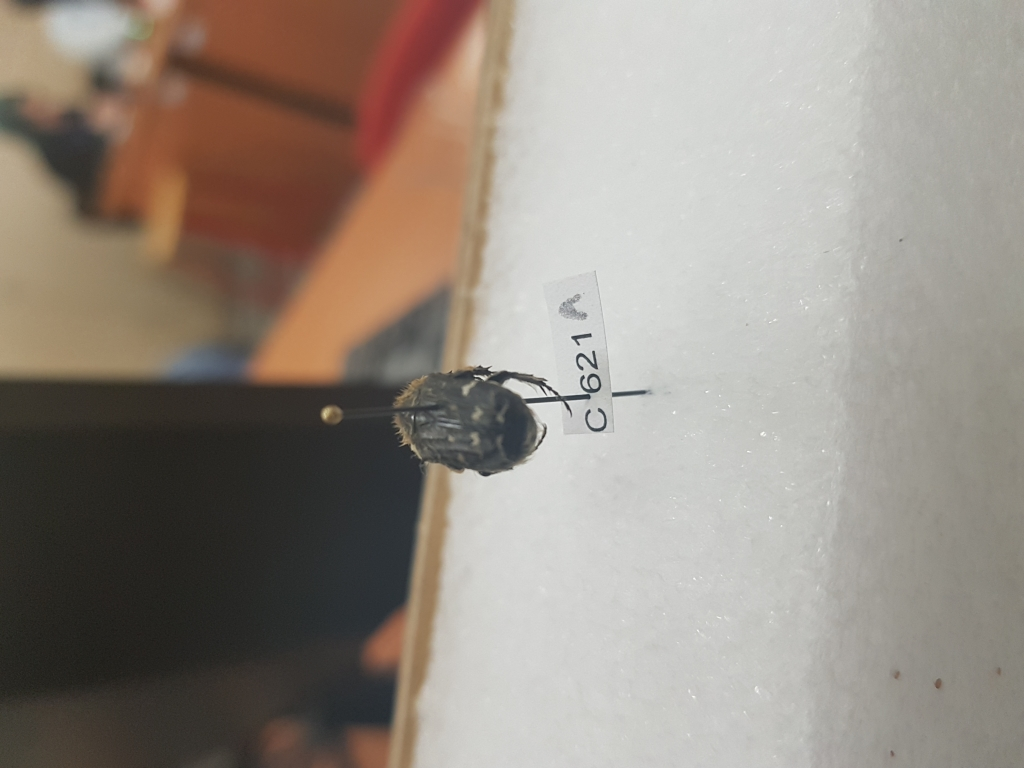Tropinota_senicula: (382, 345, 583, 481)
